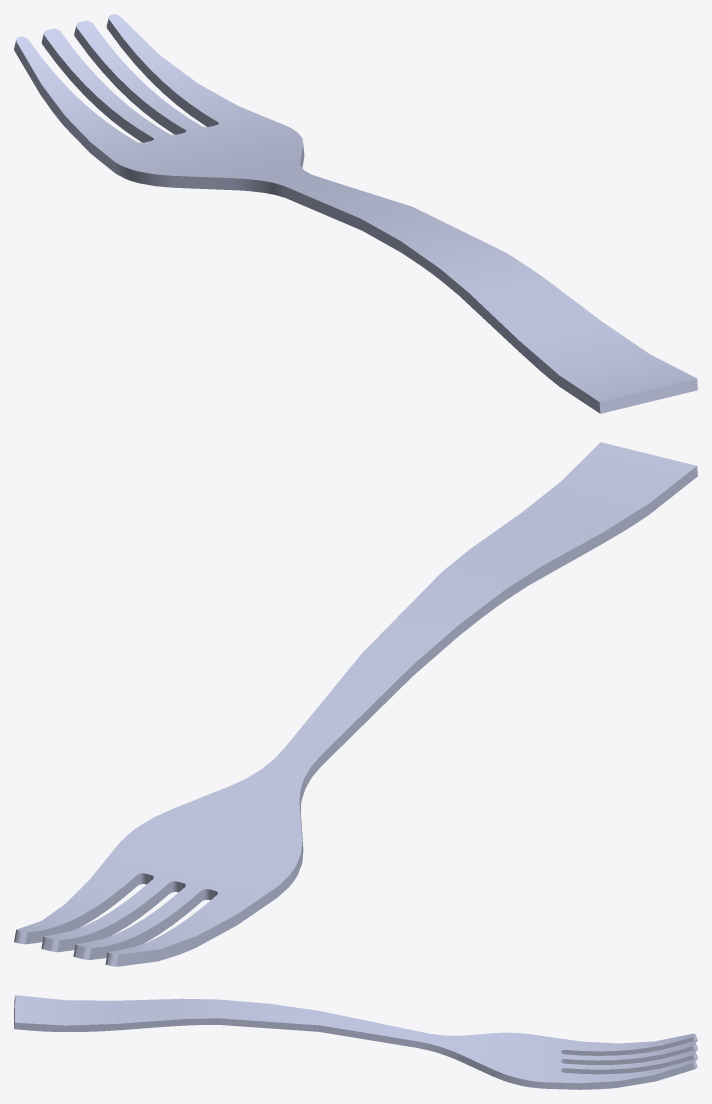
3 views of the same model, one above another, from view 1: azimuth 30°, elevation 25°; view 2: azimuth 150°, elevation 25°; view 3: azimuth 270°, elevation 25° (orthographic). The views are drawn at different scales.
Parts seen in each view (by area): view 1: farshita; view 2: farshita; view 3: farshita.
Part boxes in pixels (x1,y1,x2,y2): farshita: (14,14,697,413); farshita: (14,442,697,966); farshita: (14,995,697,1089).
Size of the model in its own units: 0.1527 by 0.0916 by 0.9469.
